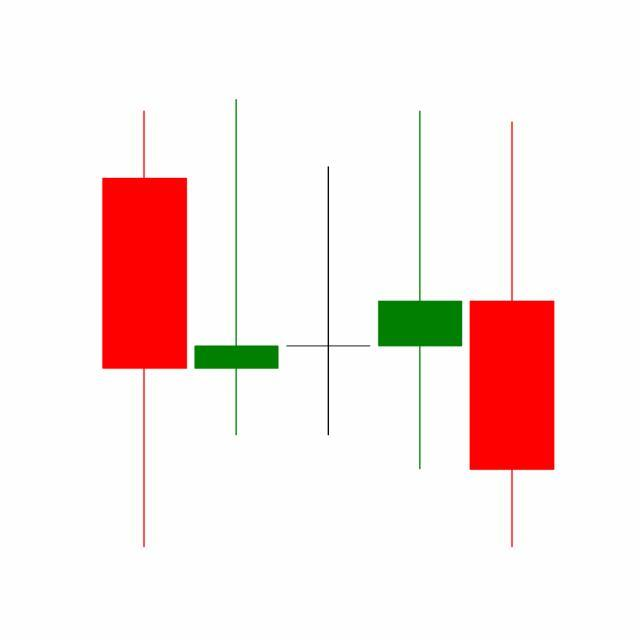Spinning Top: (374, 107, 468, 473)
